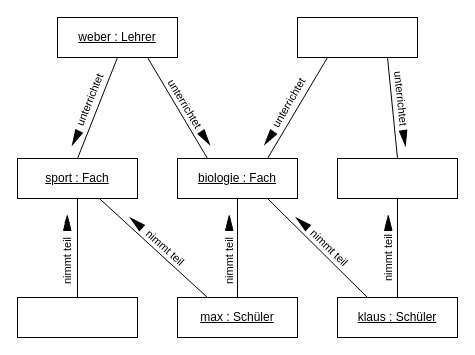
Image size: 475x355. Some labels were removed from this diagram. Here are the shapes that lost their labels. From the top down, the centre of each, then its label:
[357,37]: müller : Lehrer
[397,178]: mathe : Fach
[77,317]: nadine : Schüler
